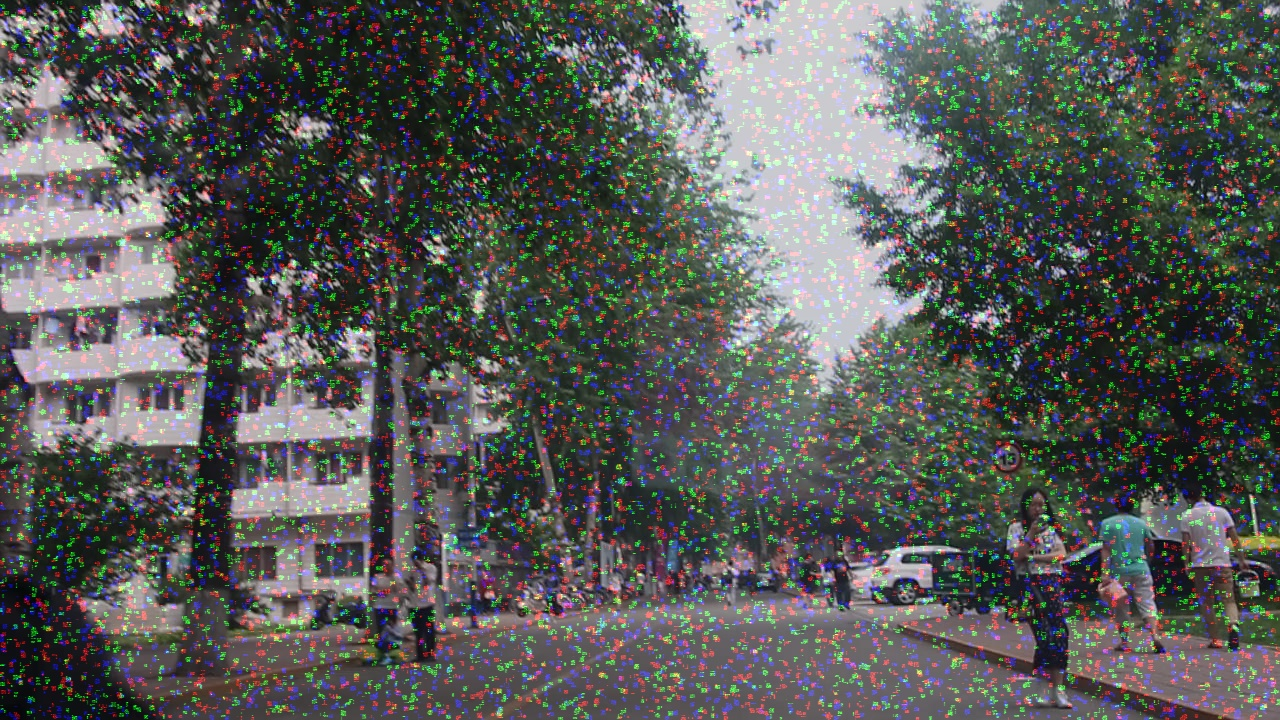Prohibitory Signs: (991, 439, 1025, 475)
